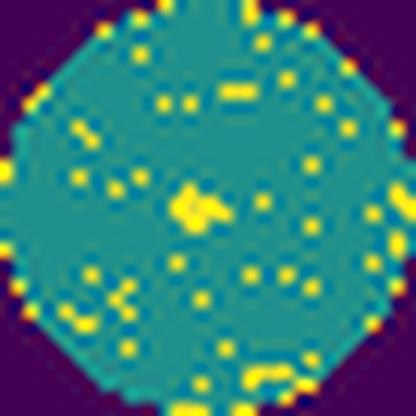Center: (164, 178, 238, 237)
